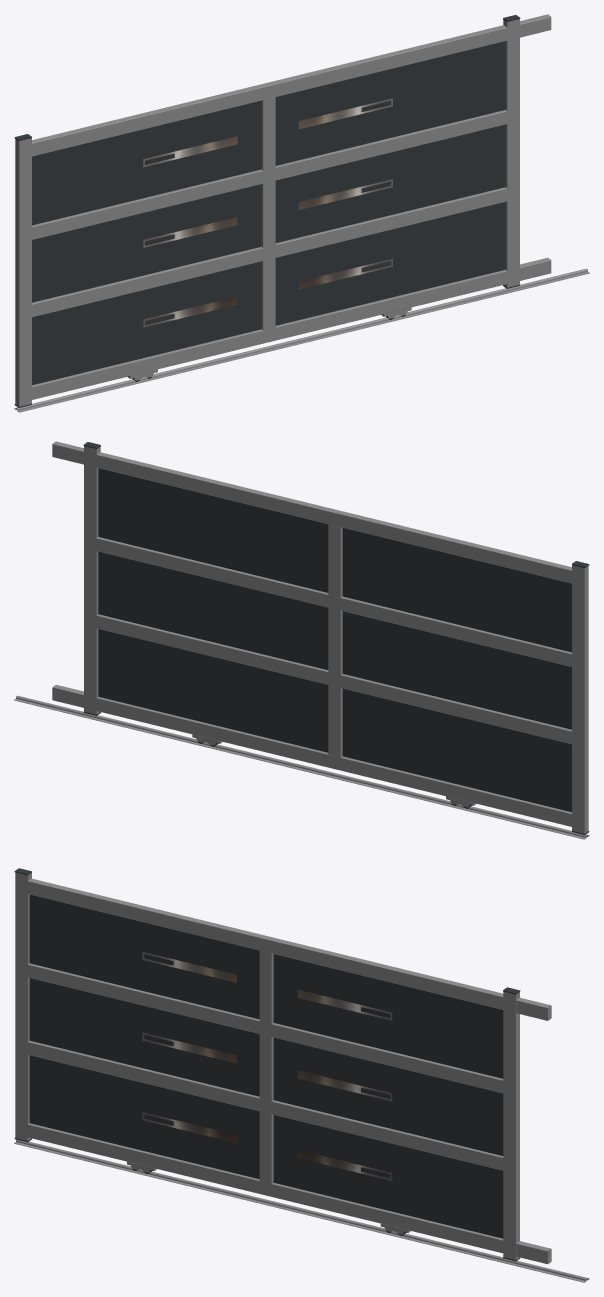
The picture shows the model from 3 angles, top to bottom: view 1: azimuth 30°, elevation 25°; view 2: azimuth 150°, elevation 25°; view 3: azimuth 330°, elevation 25°; orthographic projection.
Visible parts, largest first — view 1: Box2393, Box2392, Shape107412904, Shape107412905, Shape107412907, Shape107412906, Pilar, Pilar001, Rail, Shape107413020, vulcano, vulcano001; view 2: Box2393, Box2392, Shape107412904, Shape107412905, Shape107412906, Shape107412907, Pilar, Pilar001, Rail, Shape107413020; view 3: Box2392, Box2393, Shape107412904, Shape107412905, Shape107412906, Shape107412907, Pilar001, Pilar, Rail, Shape107413020, vulcano001, vulcano.
Boxes of the visible parts, left/top/right/bottom form: Box2393: left=275, top=41, right=505, bottom=325; Box2392: left=32, top=101, right=261, bottom=385; Shape107412904: left=32, top=14, right=551, bottom=156; Shape107412905: left=32, top=257, right=551, bottom=399; Shape107412907: left=32, top=187, right=507, bottom=317; Shape107412906: left=32, top=110, right=507, bottom=239; Pilar: left=15, top=138, right=31, bottom=406; Pilar001: left=503, top=19, right=519, bottom=287; Rail: left=14, top=268, right=589, bottom=412; Shape107413020: left=261, top=97, right=275, bottom=330; vulcano: left=143, top=136, right=237, bottom=327; vulcano001: left=298, top=98, right=392, bottom=289; Box2393: left=98, top=468, right=328, bottom=752; Box2392: left=342, top=528, right=571, bottom=812; Shape107412904: left=52, top=441, right=571, bottom=583; Shape107412905: left=52, top=684, right=571, bottom=826; Shape107412906: left=96, top=537, right=571, bottom=666; Shape107412907: left=96, top=614, right=571, bottom=744; Pilar: left=572, top=565, right=588, bottom=833; Pilar001: left=84, top=446, right=100, bottom=714; Rail: left=14, top=695, right=589, bottom=839; Shape107413020: left=328, top=524, right=342, bottom=757; Box2392: left=29, top=894, right=259, bottom=1179; Box2393: left=273, top=954, right=503, bottom=1238; Shape107412904: left=28, top=878, right=551, bottom=1020; Shape107412905: left=28, top=1123, right=551, bottom=1264; Shape107412906: left=28, top=963, right=503, bottom=1093; Shape107412907: left=28, top=1040, right=503, bottom=1170; Pilar001: left=503, top=991, right=519, bottom=1260; Pilar: left=15, top=872, right=31, bottom=1140; Rail: left=14, top=1139, right=589, bottom=1282; Shape107413020: left=259, top=950, right=273, bottom=1183; vulcano001: left=297, top=989, right=392, bottom=1180; vulcano: left=142, top=952, right=236, bottom=1143.
Bounding box in the file's own units: 3600 × 1640 × 60.02.
Materials: 6 (3 with a texture image).
